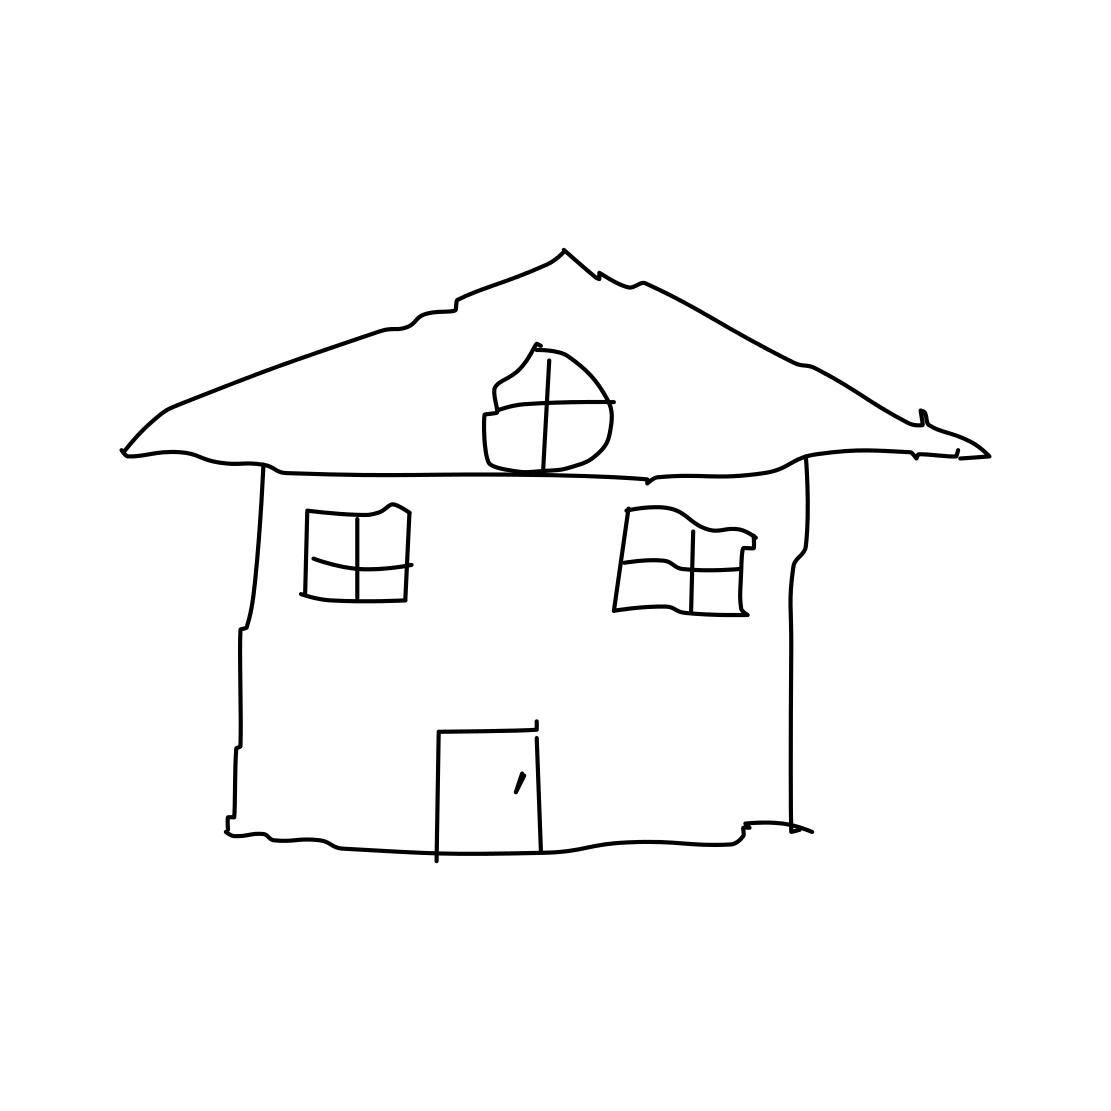House: (79, 206, 993, 901)
